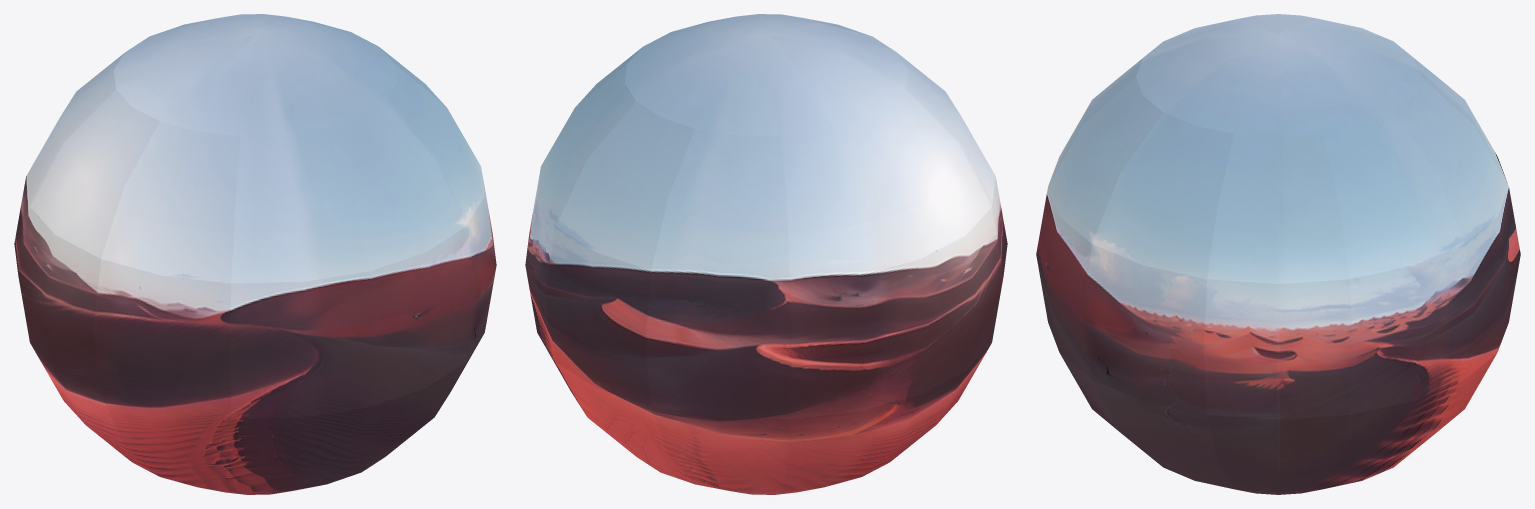
The model's file is skybox_red_desert.glb.
The picture shows the model from 3 angles, left to right: view 1: azimuth 30°, elevation 25°; view 2: azimuth 150°, elevation 25°; view 3: azimuth 270°, elevation 25°; orthographic projection.
Visible parts, largest first — view 1: Top_1_4, Side_24_27_56, Side_06_9_20, Side_08_11_24, Side_26_29_60, Side_09_12_26, Side_23_26_54, Side_05_8_18, Side_27_30_62, Side_07_10_22, Side_25_28_58, Side_14_17_36 (+5 smaller); view 2: Top_1_4, Side_15_18_38, Side_03_6_14, Side_01_4_10, Side_29_32_66, Side_00_3_8, Side_17_20_42, Side_05_8_18, Side_27_30_62, Side_02_5_12, Side_28_31_64, Side_12_15_32 (+5 smaller); view 3: Top_1_4, Side_13_16_34, Side_20_23_48, Side_18_21_44, Side_21_24_50, Side_12_15_32, Side_14_17_36, Side_19_22_46, Side_17_20_42, Side_23_26_54, Side_10_13_28, Side_11_14_30 (+6 smaller).
Boxes of the visible parts, left/top/right/bottom form: Top_1_4: left=113, top=14, right=397, bottom=136; Side_24_27_56: left=230, top=271, right=376, bottom=419; Side_06_9_20: left=93, top=259, right=231, bottom=419; Side_08_11_24: left=231, top=129, right=370, bottom=283; Side_26_29_60: left=101, top=121, right=240, bottom=283; Side_09_12_26: left=371, top=226, right=476, bottom=406; Side_23_26_54: left=327, top=101, right=465, bottom=270; Side_05_8_18: left=30, top=89, right=159, bottom=258; Side_27_30_62: left=18, top=207, right=100, bottom=394; Side_07_10_22: left=231, top=407, right=370, bottom=492; Side_25_28_58: left=101, top=395, right=240, bottom=491; Side_14_17_36: left=386, top=64, right=484, bottom=225; Top_1_4: left=624, top=14, right=908, bottom=136; Side_15_18_38: left=645, top=271, right=791, bottom=419; Side_03_6_14: left=790, top=259, right=928, bottom=419; Side_01_4_10: left=651, top=129, right=790, bottom=283; Side_29_32_66: left=781, top=121, right=920, bottom=283; Side_00_3_8: left=545, top=226, right=650, bottom=406; Side_17_20_42: left=556, top=101, right=694, bottom=270; Side_05_8_18: left=862, top=89, right=991, bottom=258; Side_27_30_62: left=921, top=207, right=1003, bottom=394; Side_02_5_12: left=651, top=407, right=790, bottom=492; Side_28_31_64: left=781, top=395, right=920, bottom=491; Side_12_15_32: left=537, top=64, right=635, bottom=225; Top_1_4: left=1136, top=14, right=1420, bottom=136; Side_13_16_34: left=1203, top=279, right=1353, bottom=419; Side_20_23_48: left=1207, top=134, right=1349, bottom=283; Side_18_21_44: left=1349, top=244, right=1474, bottom=414; Side_21_24_50: left=1082, top=244, right=1207, bottom=414; Side_12_15_32: left=1322, top=112, right=1464, bottom=278; Side_14_17_36: left=1092, top=112, right=1234, bottom=278; Side_19_22_46: left=1207, top=415, right=1349, bottom=492; Side_17_20_42: left=1394, top=77, right=1508, bottom=243; Side_23_26_54: left=1048, top=77, right=1162, bottom=243; Side_10_13_28: left=1092, top=380, right=1233, bottom=489; Side_11_14_30: left=1323, top=380, right=1464, bottom=489.
Size of the model in its own units: 8.21 by 8.21 by 8.21.
1 material, 1 textured.
